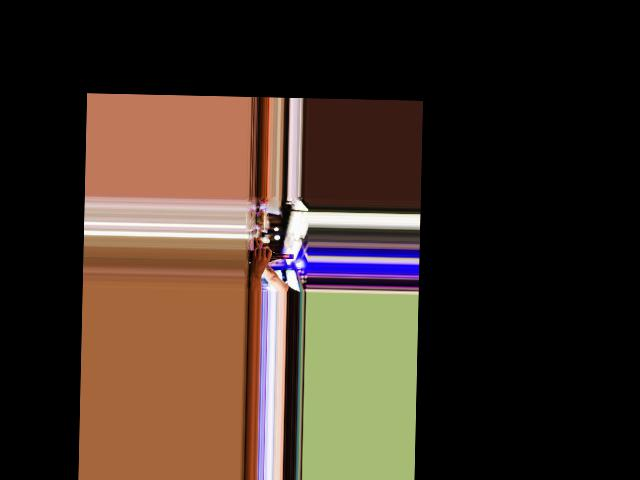beer: (250, 250, 293, 262)
